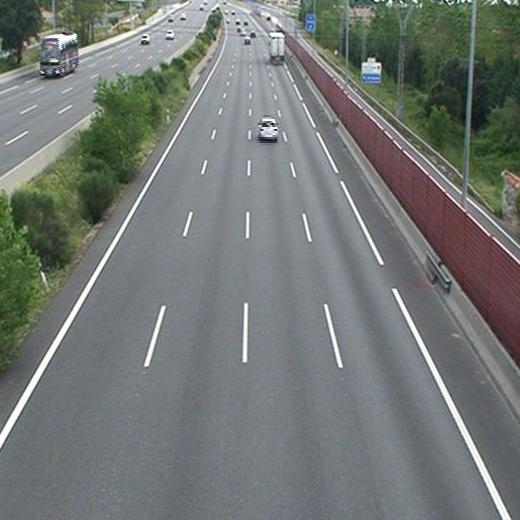car: (258, 118, 279, 138)
truck: (269, 32, 284, 62)
